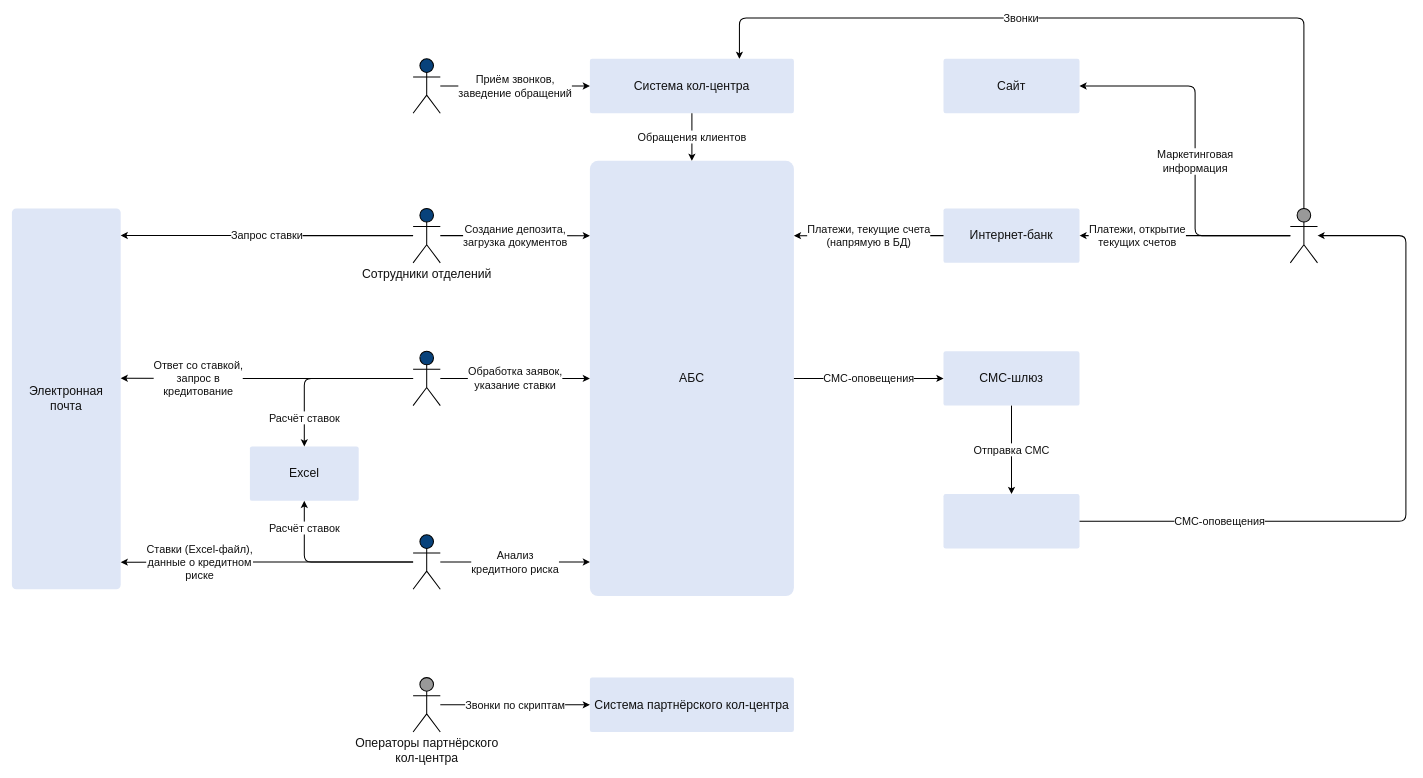
This 1423x778 diagram has some shape labels left out. The shapes that lost their labels are listed below. From the top down, each one's centre as x and y in pixels, then its label:
point 426,85: Операторы кол-центра
point 1303,235: Клиенты
point 426,378: Менеджеры депозитов
point 1011,521: Телеком-оператор
point 426,561: Сотрудники отдела кредитования
